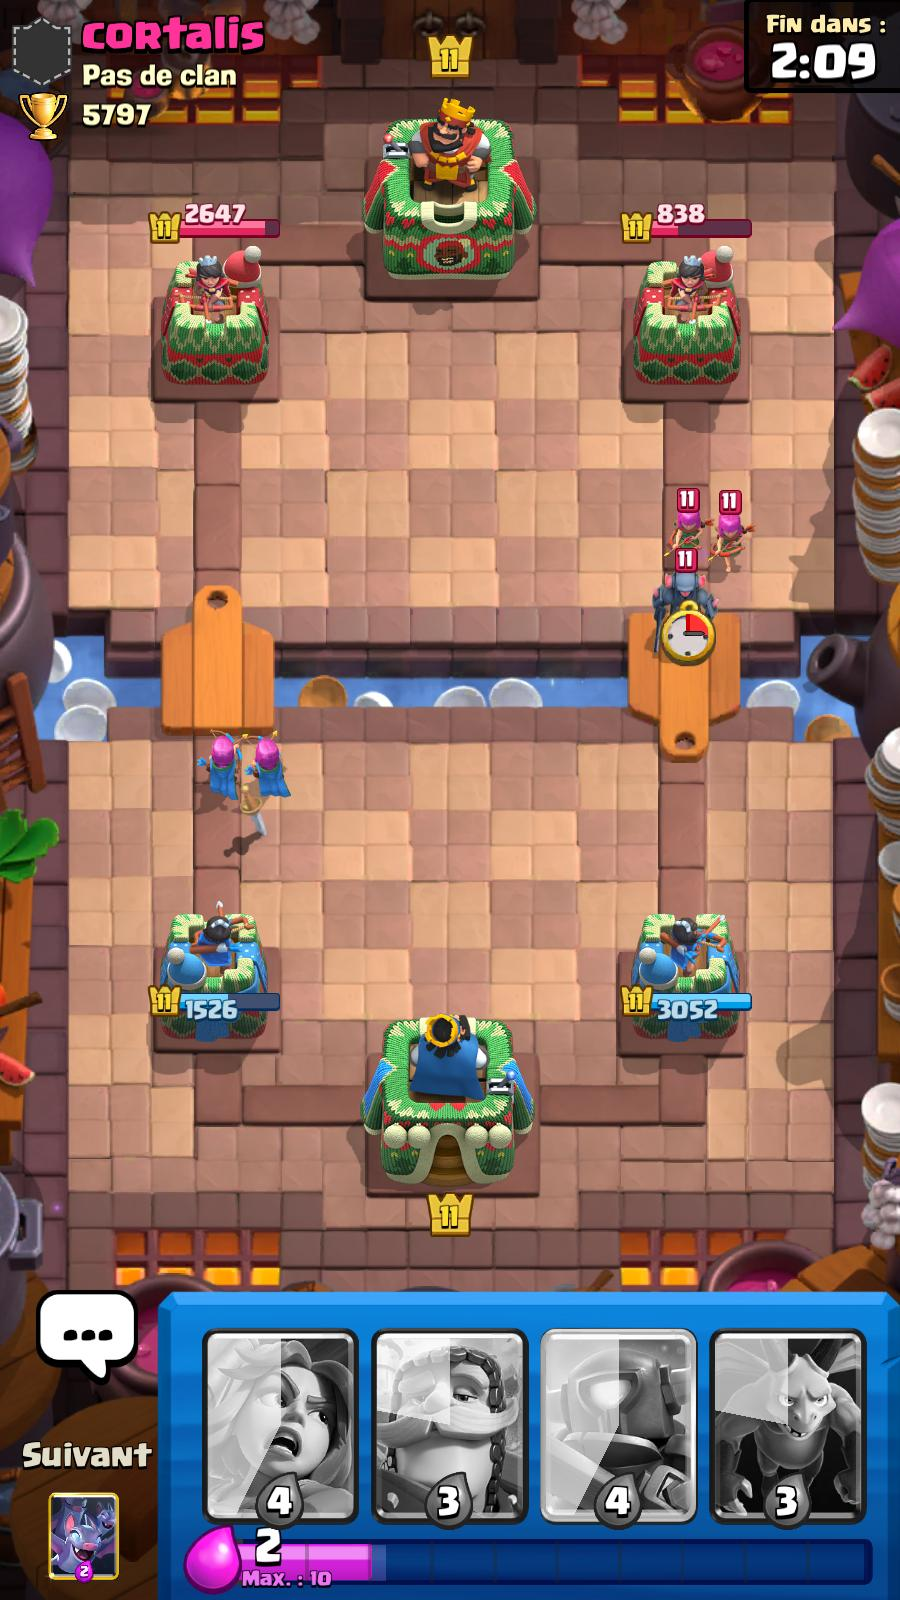archere: (185, 727, 249, 810), (241, 724, 297, 808), (662, 488, 707, 575), (710, 493, 759, 571)
mini_PEKKA: (642, 567, 730, 657)
